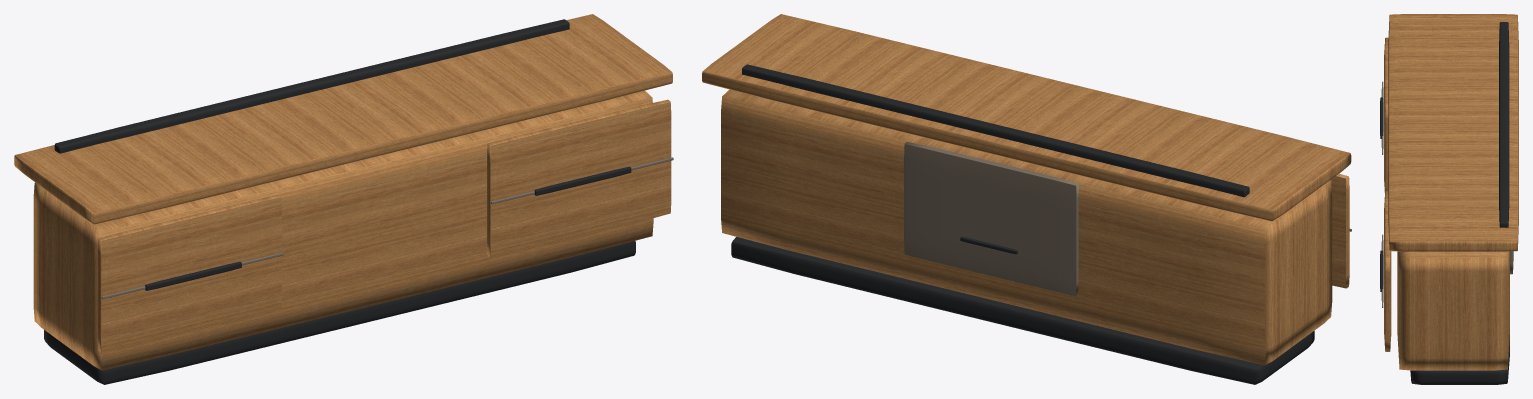
The model's file is tv_console.glb.
3 renders of one model, left to right at view 1: azimuth 30°, elevation 25°; view 2: azimuth 150°, elevation 25°; view 3: azimuth 270°, elevation 25°, orthographic. The views are drawn at different scales.
Parts seen in each view (by area): view 1: main_body, top_slab, door (×2), recessed_plinth, rear_rail, finger_pull (×2); view 2: main_body, top_slab, niche_back, recessed_plinth, rear_rail, door; view 3: top_slab, main_body, rear_rail, door (×2), recessed_plinth, finger_pull (×2).
Part boxes in pixels (x1=…): main_body: x1=33, y1=90, x2=653, y2=370; top_slab: x1=14, y1=14, x2=672, y2=224; door (×2): x1=97, y1=99, x2=671, y2=352; recessed_plinth: x1=44, y1=241, x2=635, y2=384; rear_rail: x1=54, y1=19, x2=569, y2=153; finger_pull (×2): x1=145, y1=166, x2=631, y2=290; main_body: x1=721, y1=89, x2=1332, y2=365; top_slab: x1=702, y1=14, x2=1351, y2=221; niche_back: x1=904, y1=142, x2=1078, y2=296; recessed_plinth: x1=731, y1=237, x2=1314, y2=384; rear_rail: x1=742, y1=64, x2=1249, y2=197; door: x1=1330, y1=173, x2=1349, y2=288; top_slab: x1=1388, y1=14, x2=1518, y2=251; main_body: x1=1397, y1=251, x2=1509, y2=370; rear_rail: x1=1499, y1=22, x2=1509, y2=227; door (×2): x1=1384, y1=37, x2=1391, y2=351; recessed_plinth: x1=1410, y1=335, x2=1509, y2=384; finger_pull (×2): x1=1380, y1=97, x2=1383, y2=291.
Size of the model in its own units: 1.82 by 0.5975 by 0.468.
Materials: 3 (1 with a texture image).
